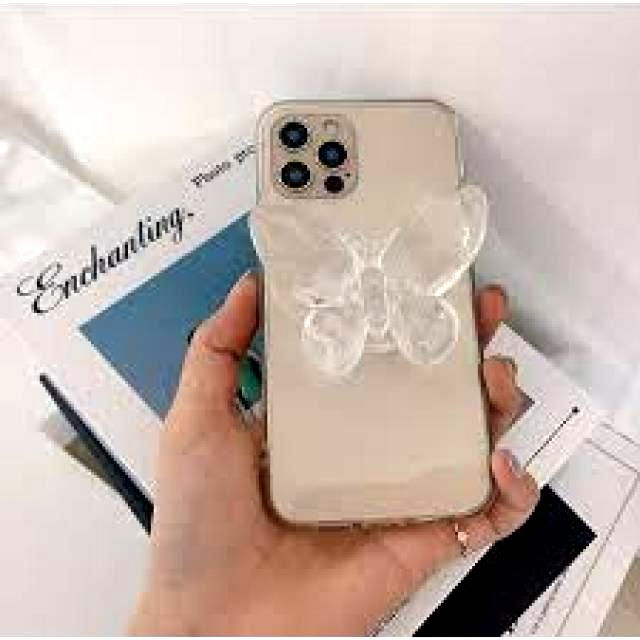lens_back: (276, 119, 312, 151), (279, 158, 311, 190), (317, 138, 349, 168)
phone: (251, 92, 498, 529)
